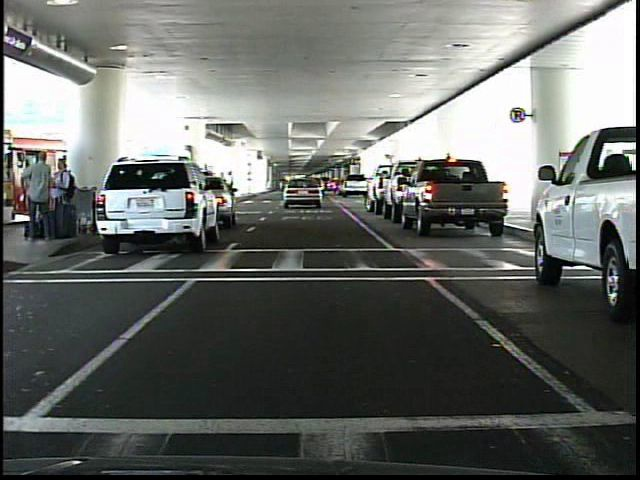person: (23, 150, 55, 243), (51, 157, 77, 243)
